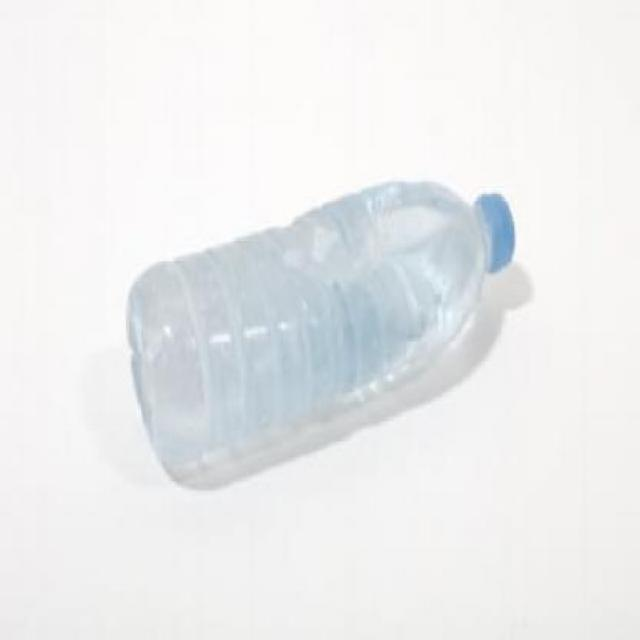bottle: (112, 163, 533, 497)
